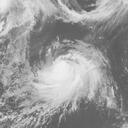cyclone: (31, 41, 111, 105)
